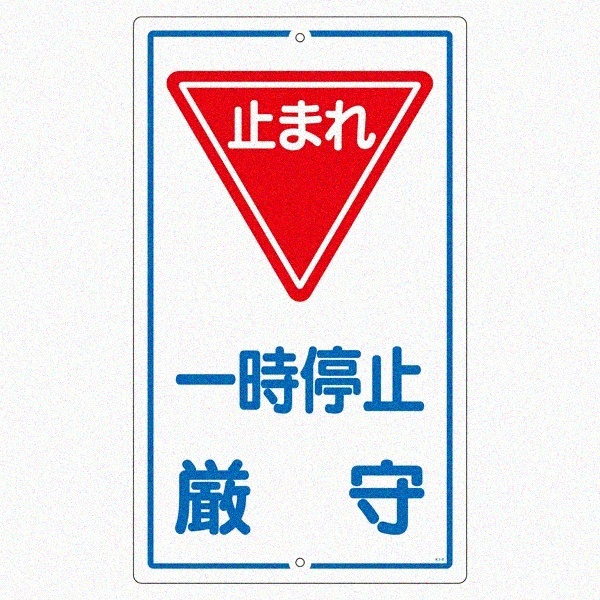Regulatory_sign_triangle: (153, 57, 436, 319)
